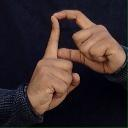hand: (26, 14, 80, 115), (54, 8, 126, 74)
